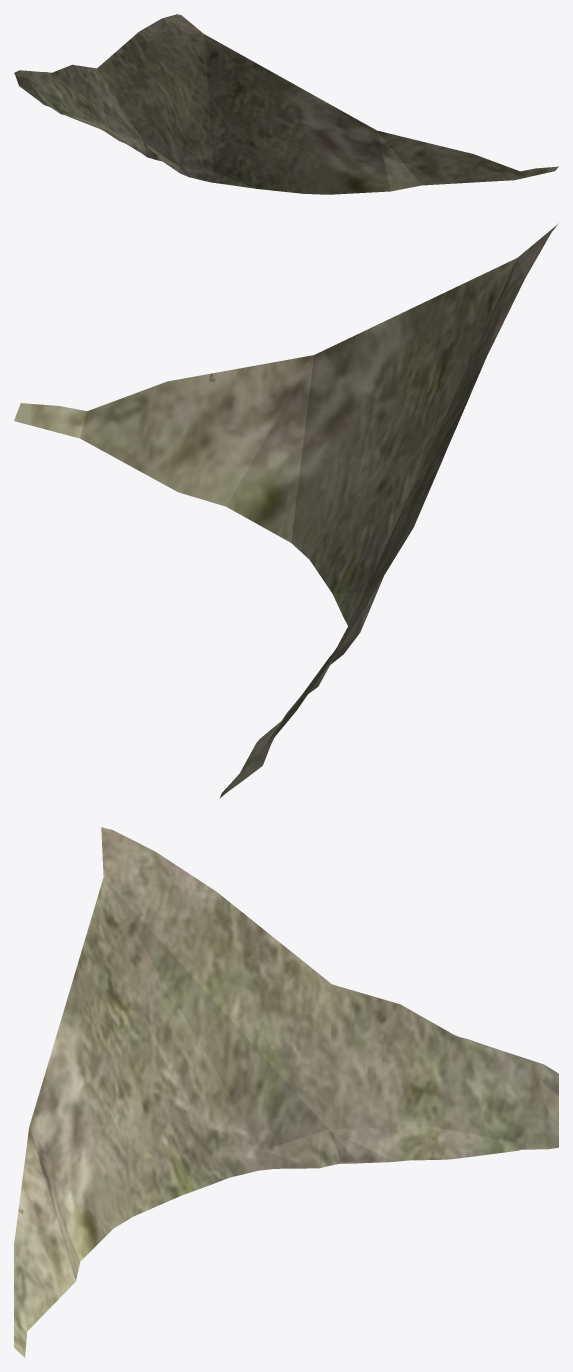
3 renders of one model, top to bottom at view 1: azimuth 30°, elevation 25°; view 2: azimuth 150°, elevation 25°; view 3: azimuth 270°, elevation 25°, orthographic. The views are drawn at different scales.
Size of the model in its own units: 2.95 by 1.79 by 2.95.
2 materials, 2 textured.
